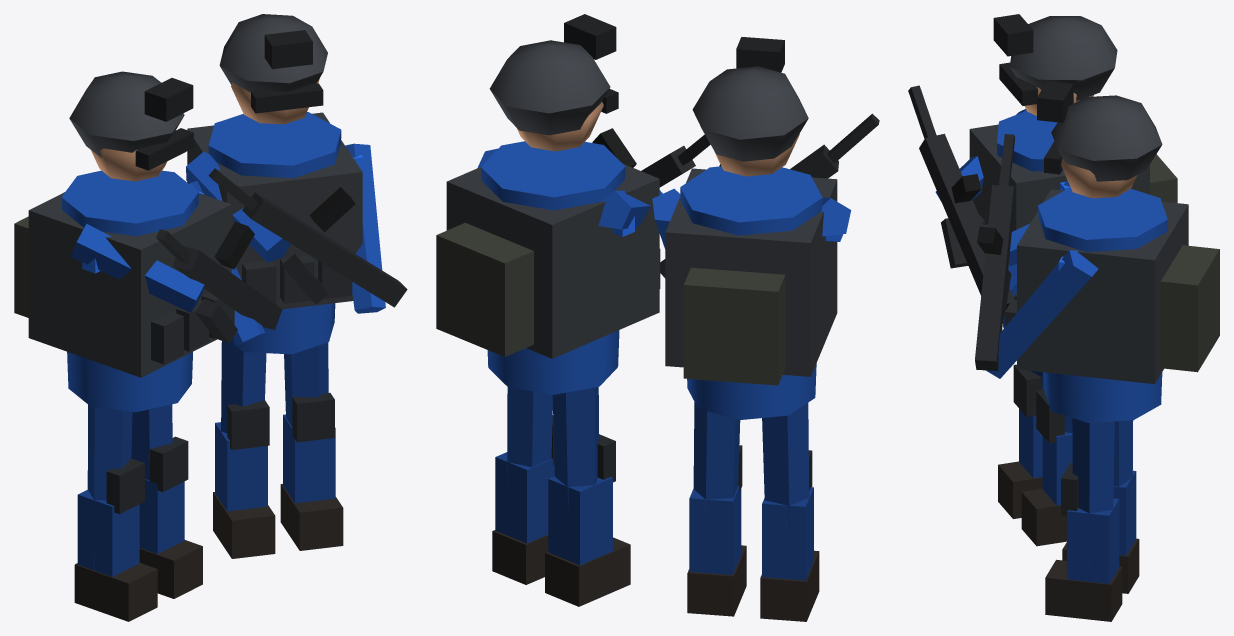
The model's file is sentry_dl7_blue.glb.
3 renders of one model, left to right at view 1: azimuth 30°, elevation 25°; view 2: azimuth 150°, elevation 25°; view 3: azimuth 270°, elevation 25°, orthographic. The views are drawn at different scales.
Visible parts, largest first — view 1: sentry_dl7_blue; view 2: sentry_dl7_blue; view 3: sentry_dl7_blue.
Part boxes in pixels (x1,y1,x2,y2): sentry_dl7_blue: [14, 14, 407, 621]; sentry_dl7_blue: [436, 14, 879, 621]; sentry_dl7_blue: [908, 14, 1219, 621].
Size of the model in its own units: 0.254 by 0.3838 by 0.2166.
Materials: 1 (1 with a texture image).
